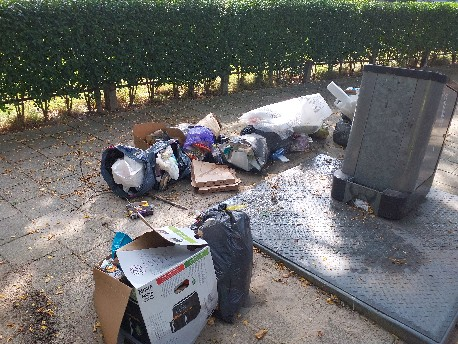Container: (358, 63, 449, 230)
Papier: (103, 233, 204, 344), (186, 170, 254, 204), (272, 94, 345, 122), (141, 124, 176, 144)
Rest: (197, 203, 273, 309), (228, 109, 302, 169), (103, 145, 180, 197), (184, 109, 236, 174)
